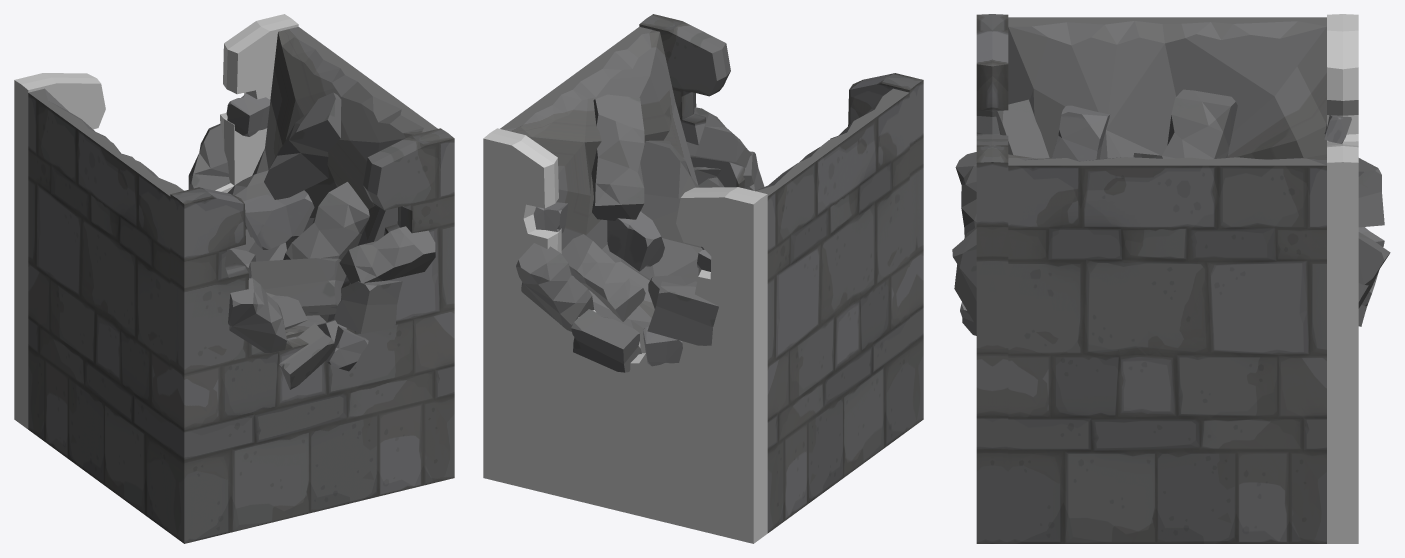
The model's file is SM_Bld_Wall_L_Damaged_01.fbx.
The picture shows the model from 3 angles, left to right: view 1: azimuth 30°, elevation 25°; view 2: azimuth 150°, elevation 25°; view 3: azimuth 270°, elevation 25°; orthographic projection. The views are drawn at different scales.
Parts seen in each view (by area): view 1: SM_Bld_Wall_L_Damaged_01; view 2: SM_Bld_Wall_L_Damaged_01; view 3: SM_Bld_Wall_L_Damaged_01.
Part boxes in pixels (box(x1,y1,x2,y2)): SM_Bld_Wall_L_Damaged_01: box(14, 14, 454, 543); SM_Bld_Wall_L_Damaged_01: box(483, 14, 923, 543); SM_Bld_Wall_L_Damaged_01: box(952, 14, 1390, 543).
Size of the model in its own units: 500 by 601 by 625.
